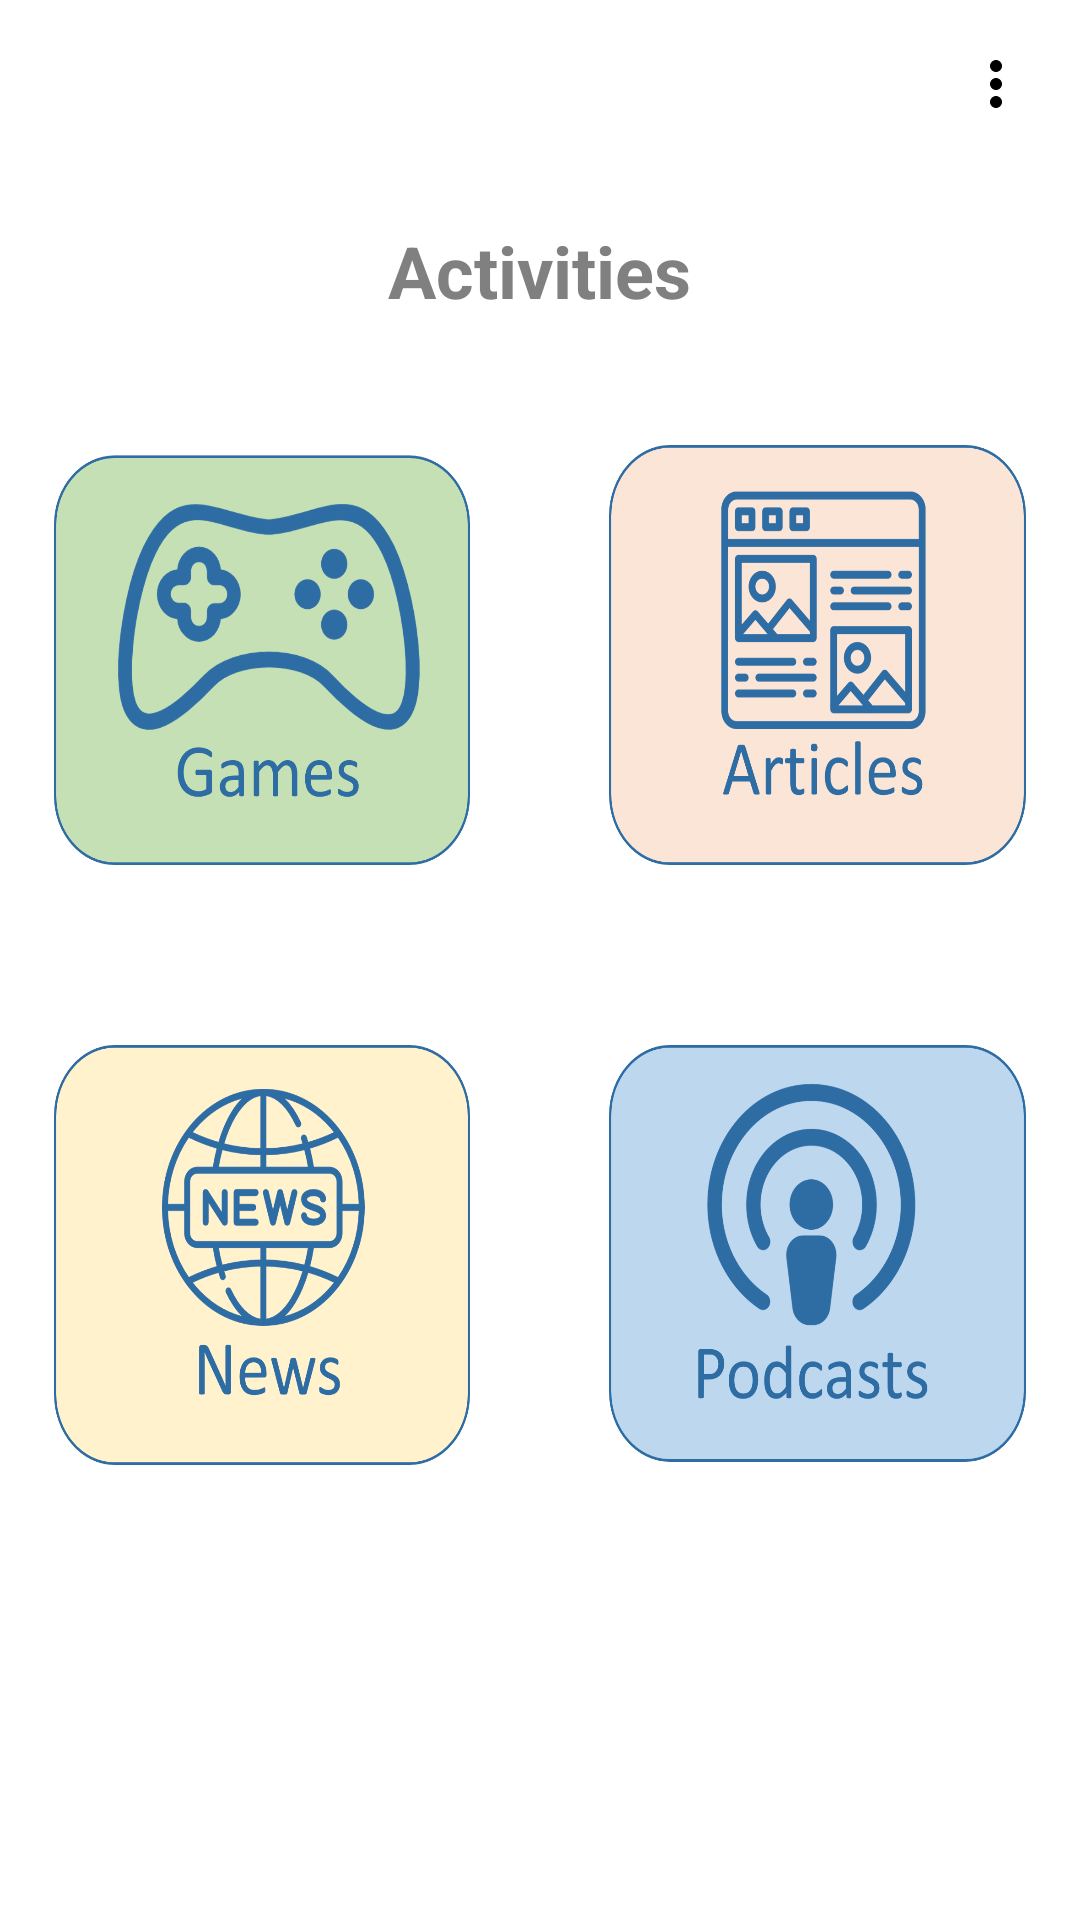

Icon click points for this 1080*1920 phone screenshot, format (x=x, y=y):
more vert: (x=996, y=84)
